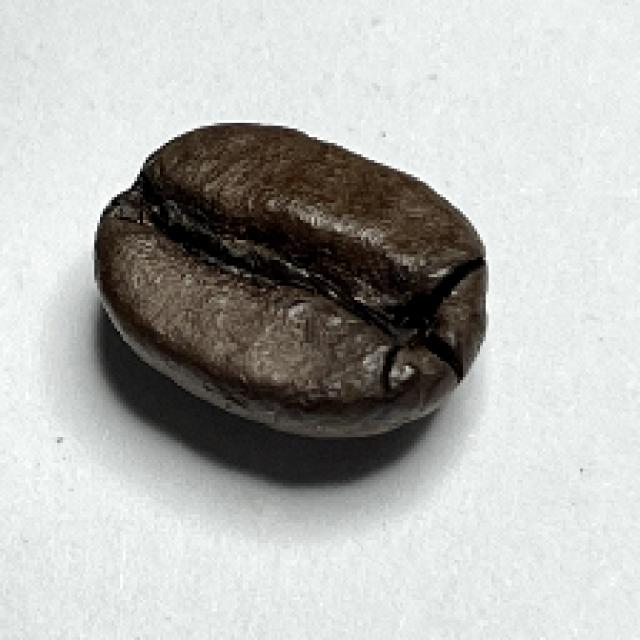bean: (90, 120, 493, 437)
